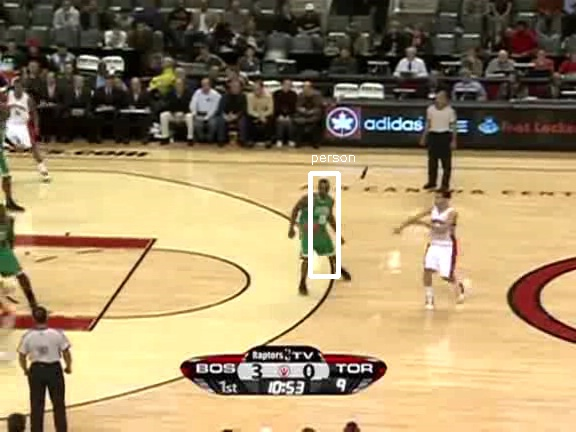person: (302, 185, 336, 266), (301, 185, 335, 266), (303, 185, 337, 266), (302, 184, 336, 265), (302, 186, 336, 267)
target_negative: (68, 54, 162, 412), (240, 221, 407, 388), (260, 245, 453, 363), (508, 2, 553, 426), (160, 122, 230, 345), (453, 180, 573, 202)
